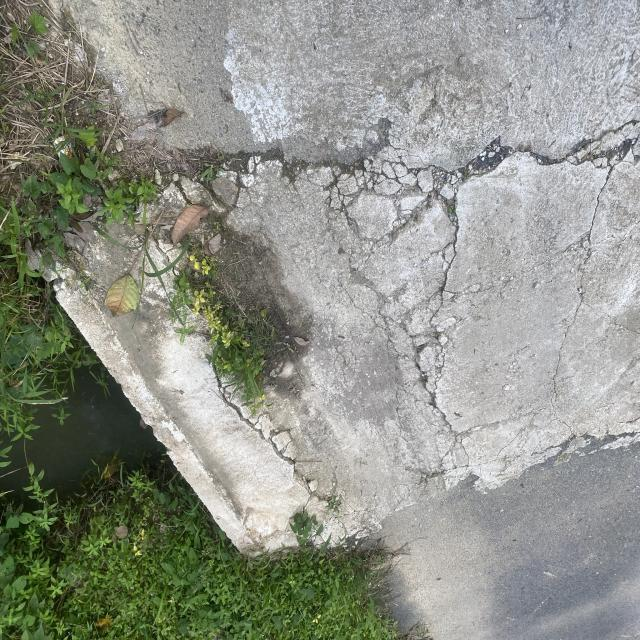pothole: (202, 82, 532, 408)
